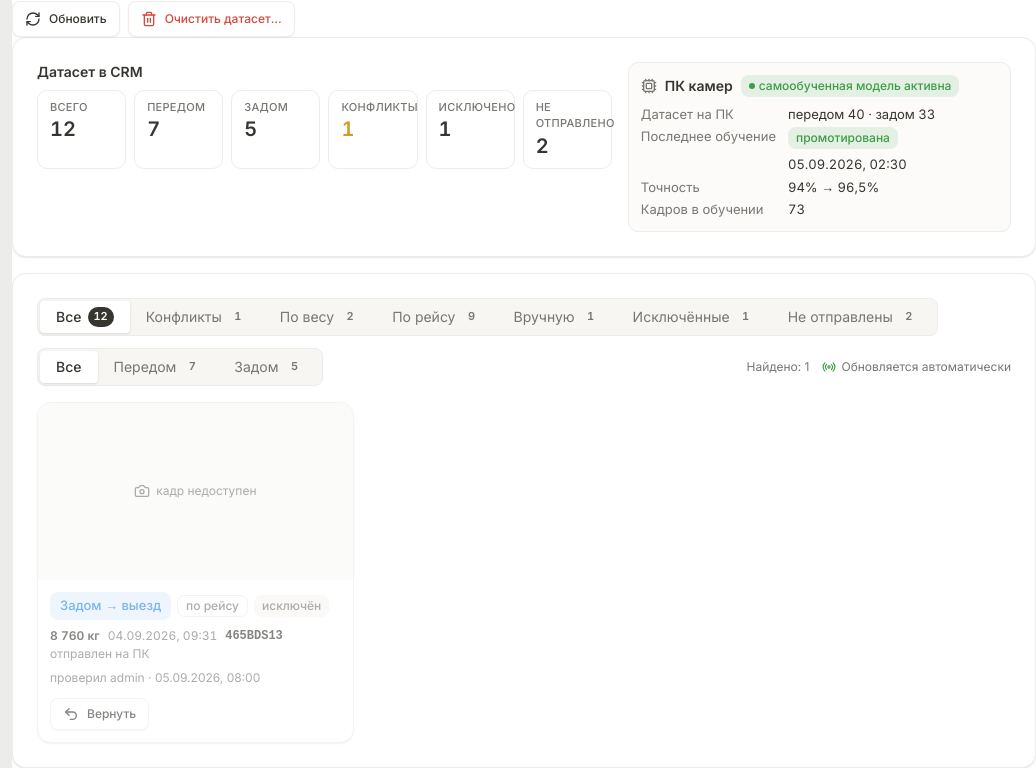
Test case: OrientationDatasetPage › returns an excluded frame with its current label
(page scrolled)
Click the button "Вернуть" at (100, 714), box [50, 698, 149, 730]
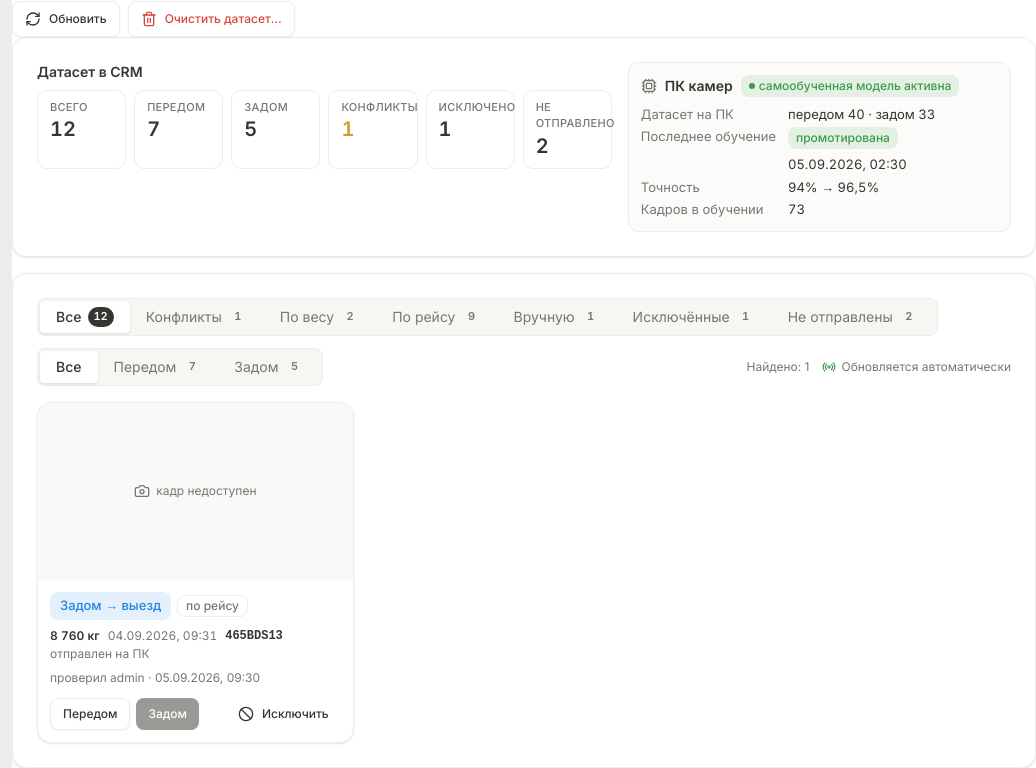
Result: the button "Исключить" is shown at [226, 698, 341, 730]
